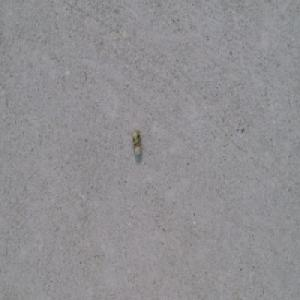BoltNutSet: (131, 129, 142, 156)
